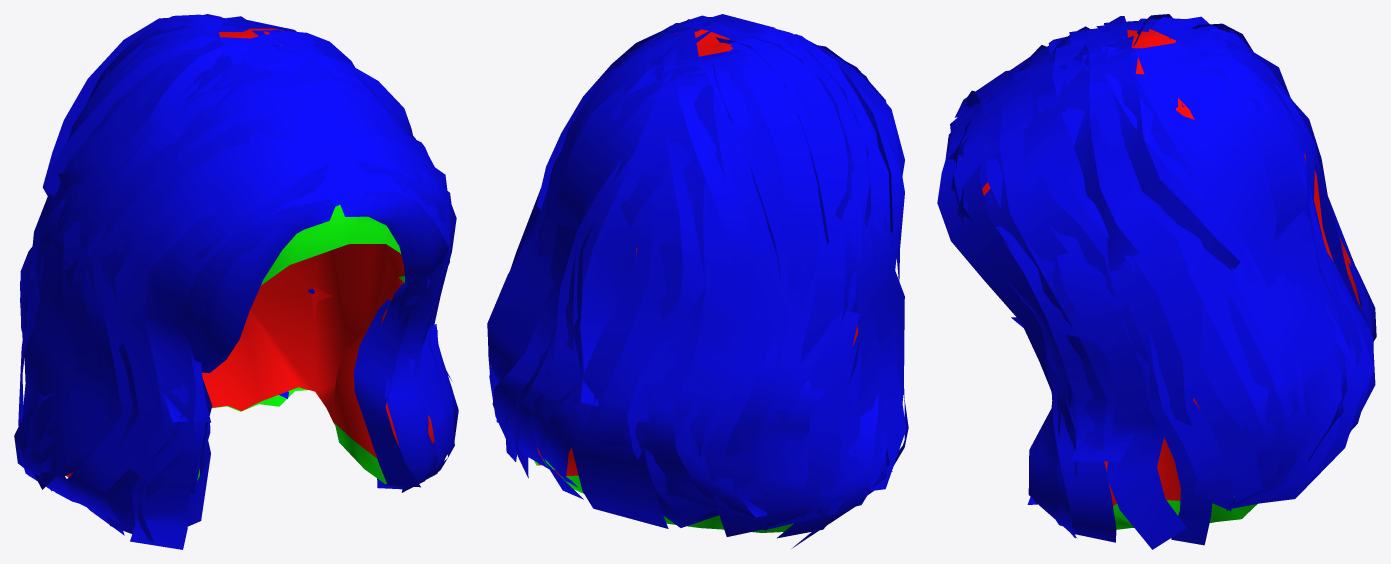
The model's file is hair_008.obj.
The picture shows the model from 3 angles, left to right: view 1: azimuth 30°, elevation 25°; view 2: azimuth 150°, elevation 25°; view 3: azimuth 270°, elevation 25°; orthographic projection. The views are drawn at different scales.
Bounding box in the file's own units: 24.16 × 28.92 × 25.68.
